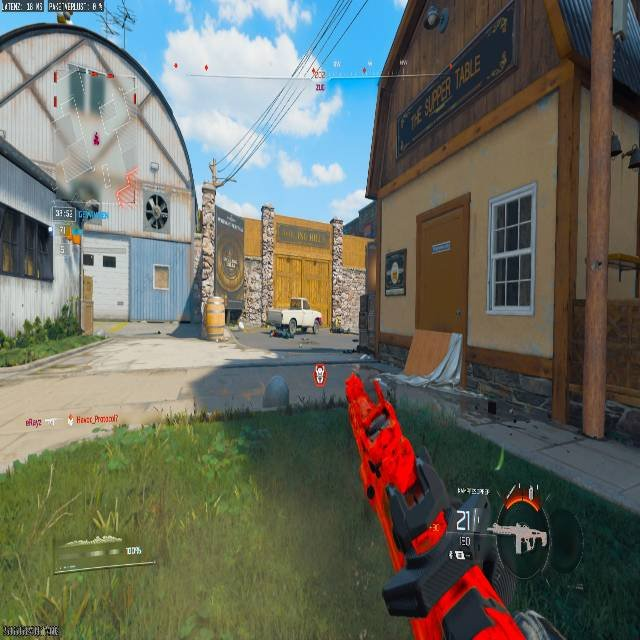player: (142, 189, 169, 231)
